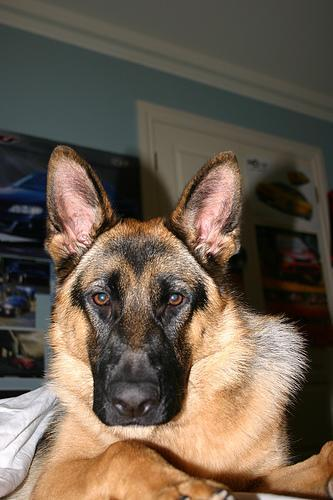German_shepherd: (0, 140, 327, 496)
